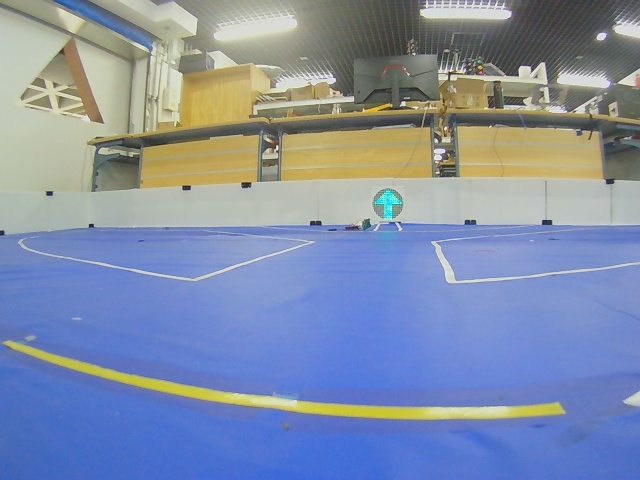straight_green: (372, 188, 404, 220)
